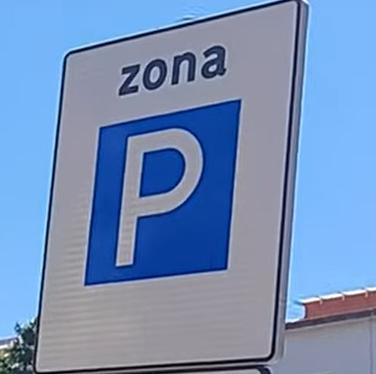zona de estacionamento autorizado: (53, 33, 279, 364)
